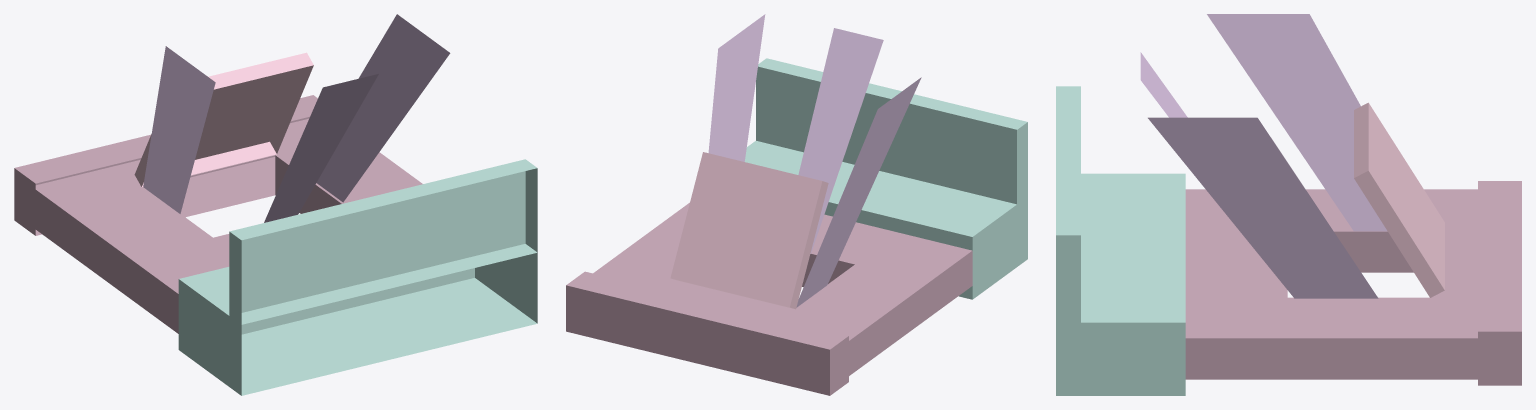
The picture shows the model from 3 angles, left to right: view 1: azimuth 30°, elevation 25°; view 2: azimuth 150°, elevation 25°; view 3: azimuth 270°, elevation 25°; orthographic projection. The views are drawn at different scales.
Parts seen in each view (by area): view 1: Object79; view 2: Object79; view 3: Object79.
Part boxes in pixels (left/top/right/bottom): Object79: left=14, top=14, right=537, bottom=395; Object79: left=566, top=14, right=1027, bottom=395; Object79: left=1056, top=14, right=1521, bottom=395.
Size of the model in its own units: 20210 by 16052 by 26420.
